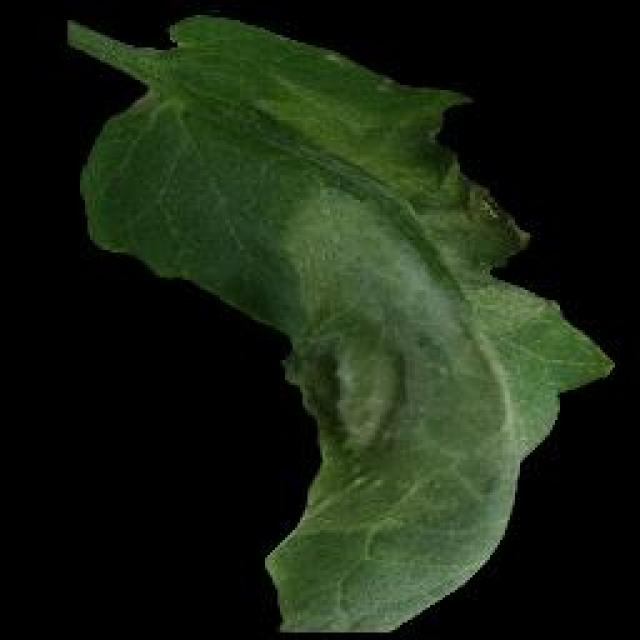Tomato___Late_blight: (62, 13, 618, 636)
